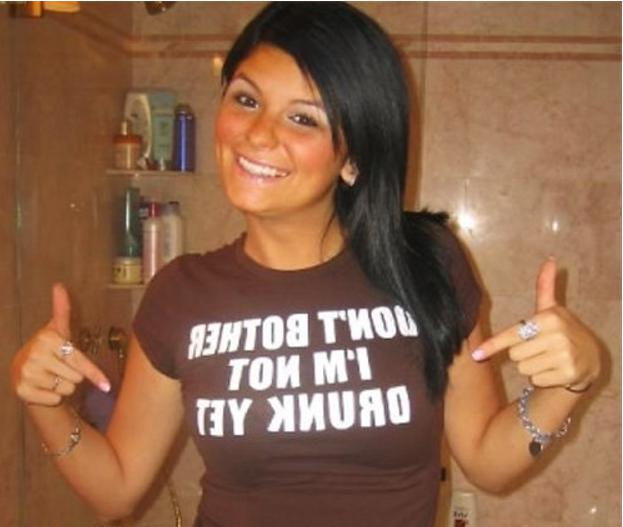Drunk: (223, 69, 325, 208)
